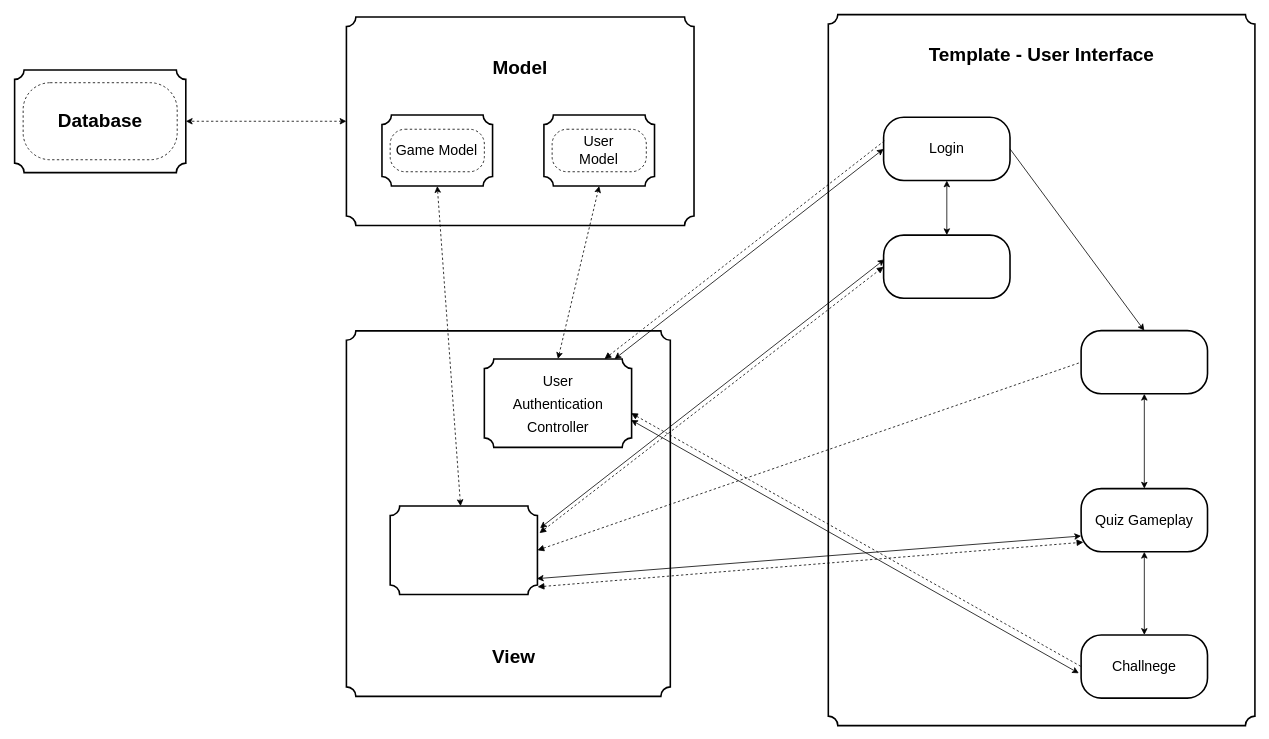
This 1269x739 diagram has some shape labels left out. The centre of each missing label's shape, as x and y in pixels:
"Dashboard" belongs at point 946,266.
"Game Controller" belongs at point 463,550.
"Game Creation" belongs at point 1144,361.
